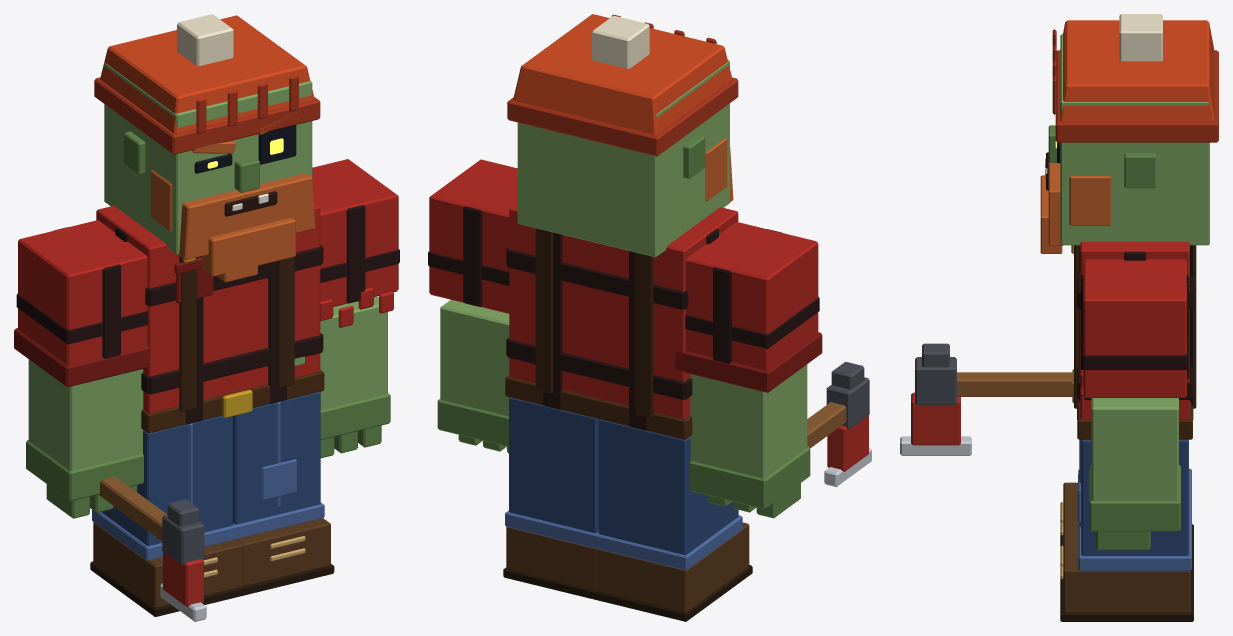
File: myw_zombielumberjack.glb
The picture shows the model from 3 angles, left to right: view 1: azimuth 30°, elevation 25°; view 2: azimuth 150°, elevation 25°; view 3: azimuth 270°, elevation 25°; orthographic projection. The views are drawn at different scales.
Visible parts, largest first — view 1: RightArm, Torso, Head, LeftArm, Hat, RightLeg, LeftLeg, Axe; view 2: RightArm, Torso, RightLeg, Hat, Head, LeftArm, LeftLeg, Axe; view 3: LeftArm, Hat, Head, LeftLeg, Axe, Torso, RightLeg.
Boxes of the visible parts, x1,y1,x2,y2 form: RightArm: (14, 220, 150, 518); Torso: (96, 203, 324, 433); Head: (104, 63, 315, 282); LeftArm: (312, 159, 399, 458); Hat: (94, 14, 320, 154); RightLeg: (90, 415, 245, 616); LeftLeg: (233, 392, 334, 595); Axe: (98, 476, 206, 621); RightArm: (675, 222, 822, 518); Torso: (505, 203, 738, 439); RightLeg: (593, 419, 752, 621); Hat: (507, 14, 738, 156); Head: (517, 59, 733, 257); LeftArm: (428, 159, 517, 453); LeftLeg: (503, 397, 598, 599); Axe: (807, 361, 871, 486); LeftArm: (1080, 259, 1189, 550); Hat: (1052, 14, 1218, 142); Head: (1040, 34, 1209, 253); LeftLeg: (1060, 439, 1193, 621); Axe: (900, 343, 1072, 455); Torso: (1071, 241, 1196, 439); RightLeg: (1060, 468, 1193, 569).
Size of the model in its own units: 3.98 by 6.15 by 3.2.
